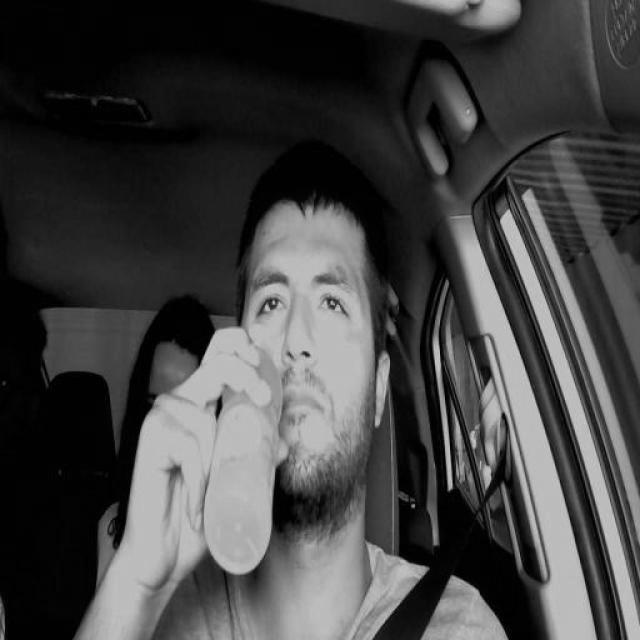Drinking: (198, 325, 290, 576)
